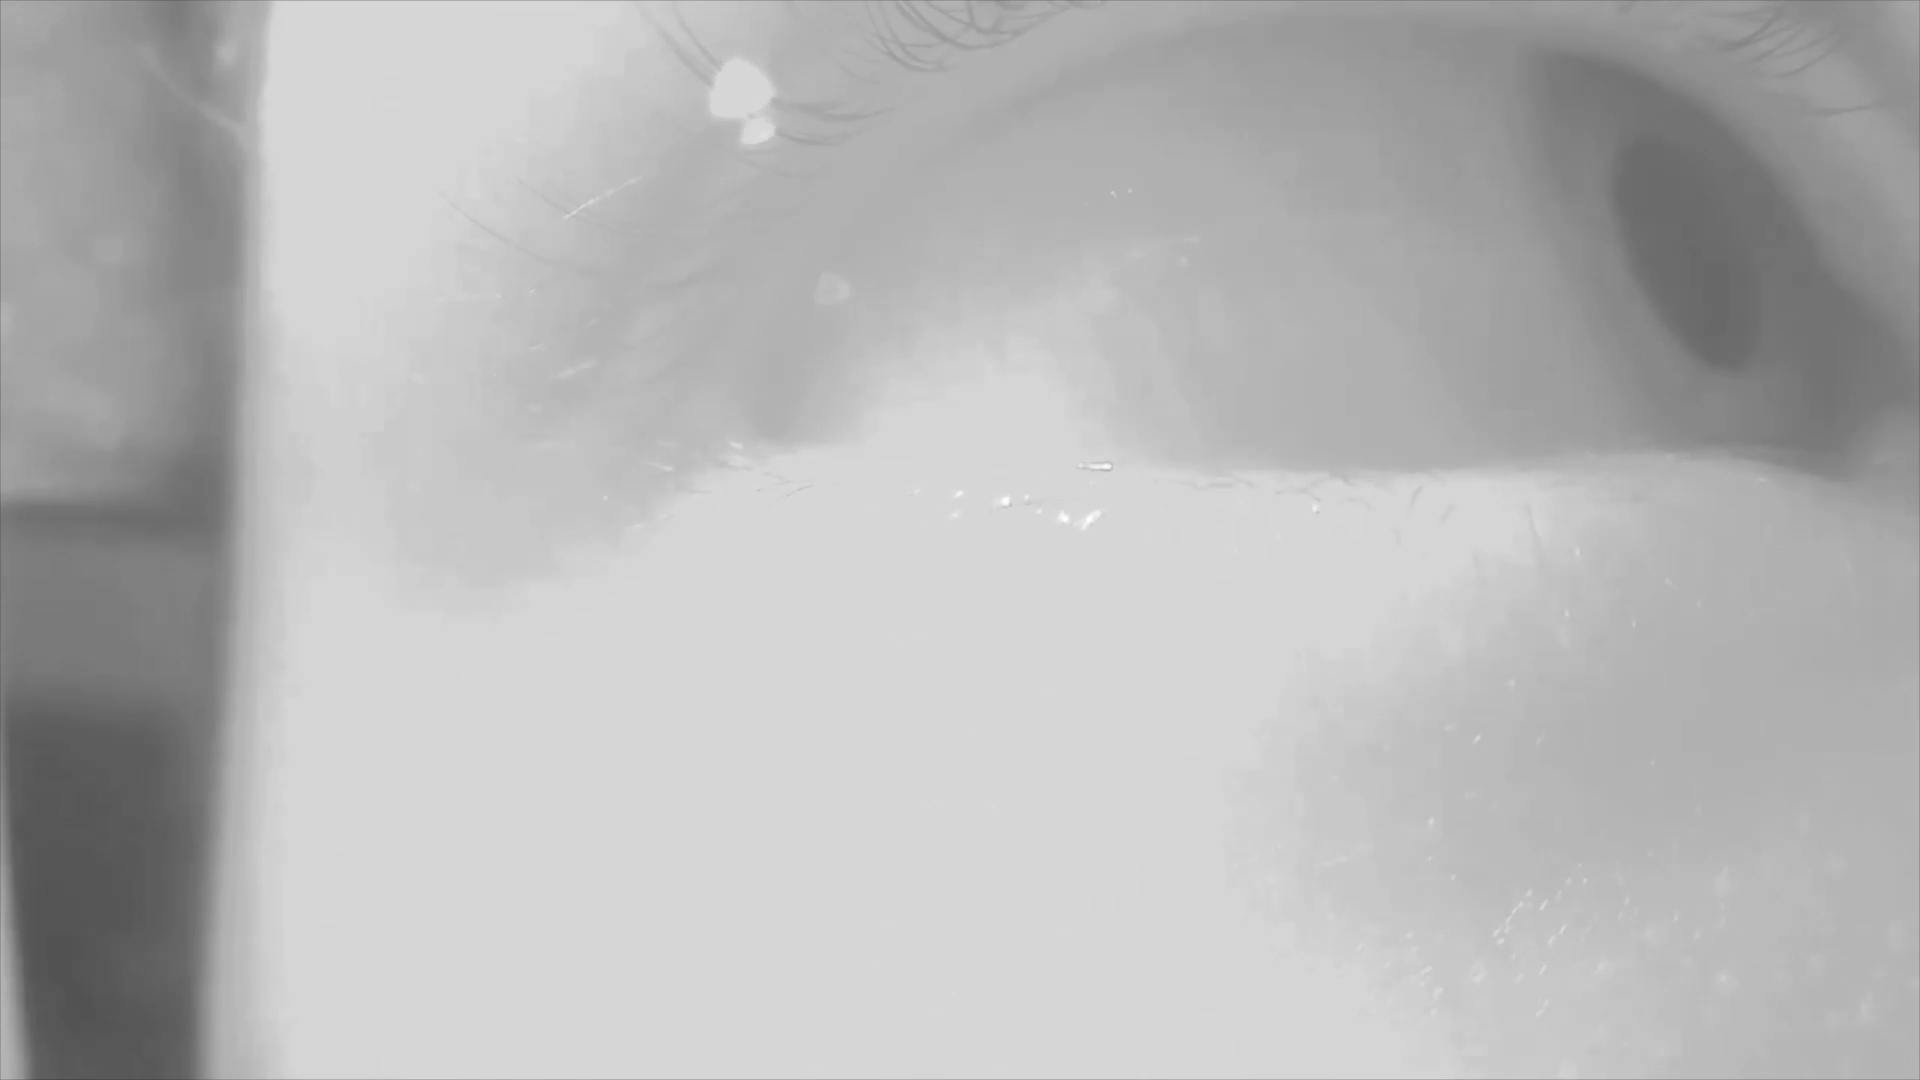pupil: (1611, 130, 1767, 371)
